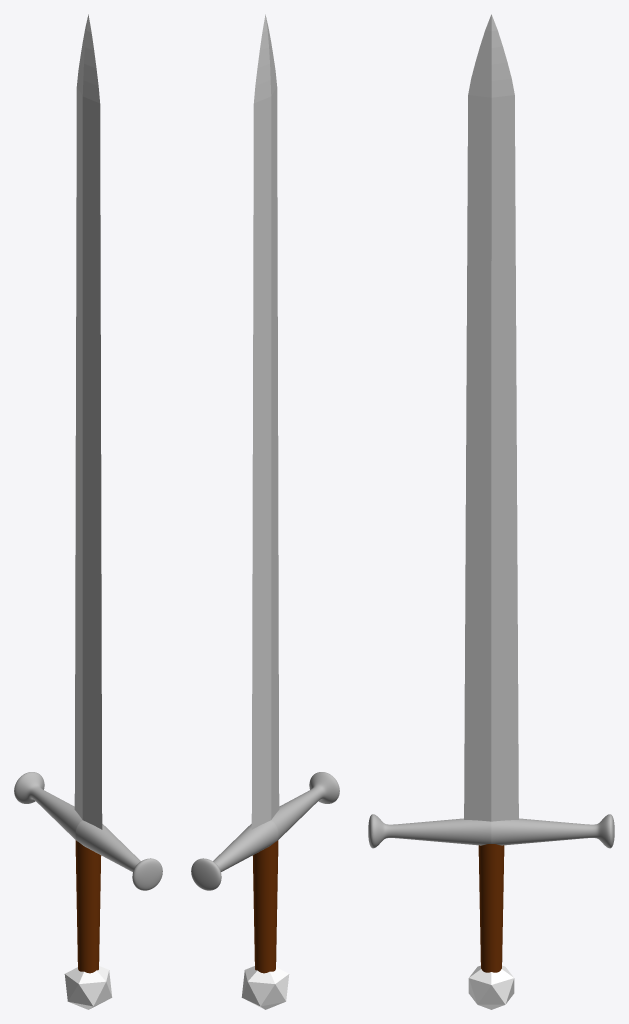
Rendered from sword.fbx.
3 views of the same model, side by side, from view 1: azimuth 30°, elevation 25°; view 2: azimuth 150°, elevation 25°; view 3: azimuth 270°, elevation 25° (orthographic).
Parts seen in each view (by area): view 1: sword_blade, sword_thing, sword_handle, sword_endpiece; view 2: sword_blade, sword_thing, sword_handle, sword_endpiece; view 3: sword_blade, sword_thing, sword_handle, sword_endpiece.
Boxes of the visible parts, box(x1,y1,x2,y2) form: sword_blade: box(74, 14, 102, 829); sword_thing: box(14, 772, 162, 890); sword_handle: box(75, 840, 101, 973); sword_endpiece: box(64, 966, 112, 1009); sword_blade: box(251, 14, 279, 829); sword_thing: box(191, 772, 339, 890); sword_handle: box(252, 840, 278, 973); sword_endpiece: box(241, 966, 289, 1009); sword_blade: box(464, 14, 518, 821); sword_thing: box(368, 814, 614, 848); sword_handle: box(478, 844, 504, 972); sword_endpiece: box(468, 965, 514, 1009).
Bounding box in the file's own units: 39.91 × 917 × 206.
